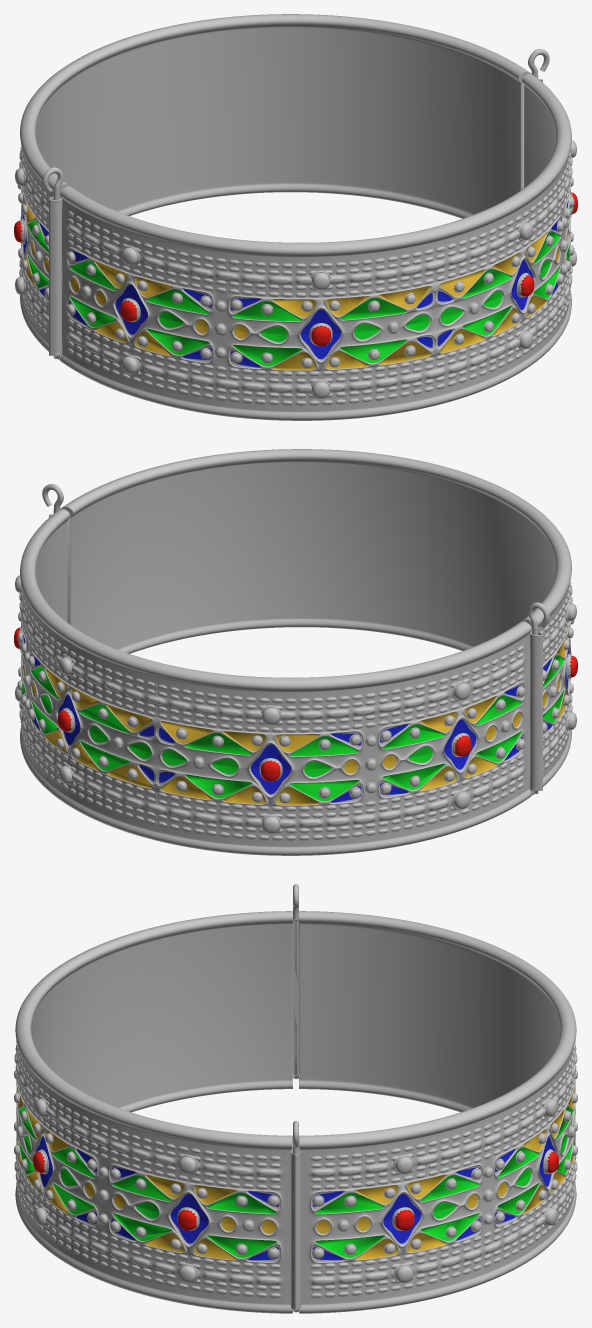
3 views of the same model, one above another, from view 1: azimuth 30°, elevation 25°; view 2: azimuth 150°, elevation 25°; view 3: azimuth 270°, elevation 25° (orthographic).
Visible parts, largest first — view 1: Cylinder, Cylinder_2, Cylinder_4, Cylinder_3, Cylinder_1, Cylinder_5; view 2: Cylinder, Cylinder_2, Cylinder_4, Cylinder_3, Cylinder_1, Cylinder_5; view 3: Cylinder, Cylinder_2, Cylinder_4, Cylinder_3, Cylinder_1, Cylinder_5.
Boxes of the visible parts, x1,y1,x2,y2 form: Cylinder: (19,14,572,420); Cylinder_2: (27,207,570,366); Cylinder_4: (15,140,576,398); Cylinder_3: (21,189,567,369); Cylinder_1: (23,201,568,367); Cylinder_5: (14,192,577,346); Cylinder: (19,449,572,855); Cylinder_2: (21,643,564,801); Cylinder_4: (15,575,576,833); Cylinder_3: (24,624,570,804); Cylinder_1: (23,635,568,802); Cylinder_5: (14,627,577,781); Cylinder: (14,884,577,1313); Cylinder_2: (17,1106,574,1257); Cylinder_4: (14,1070,577,1283); Cylinder_3: (17,1087,574,1259); Cylinder_1: (36,1136,555,1260); Cylinder_5: (33,1151,558,1230).
Bounding box in the file's own units: 2.78 × 1.03 × 2.68.
